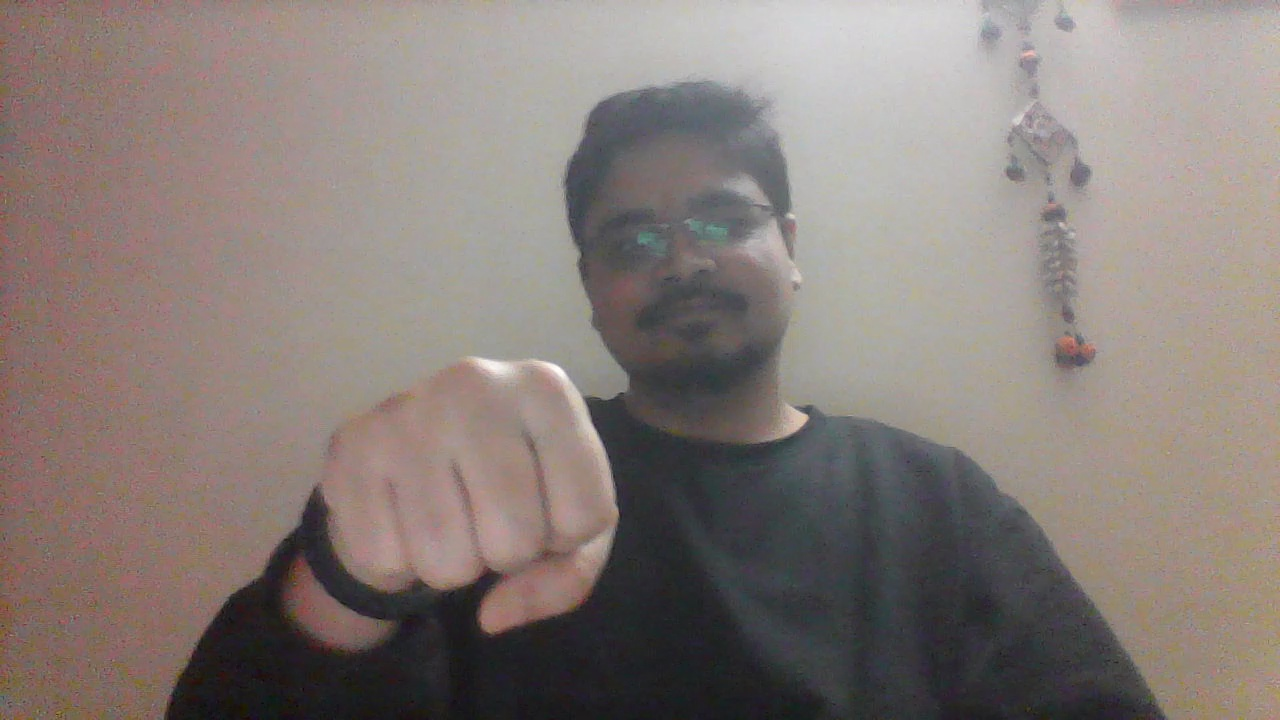Yes: (312, 347, 626, 635)
